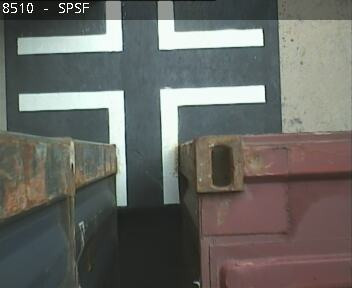groundmarker_1: (16, 86, 265, 206)
